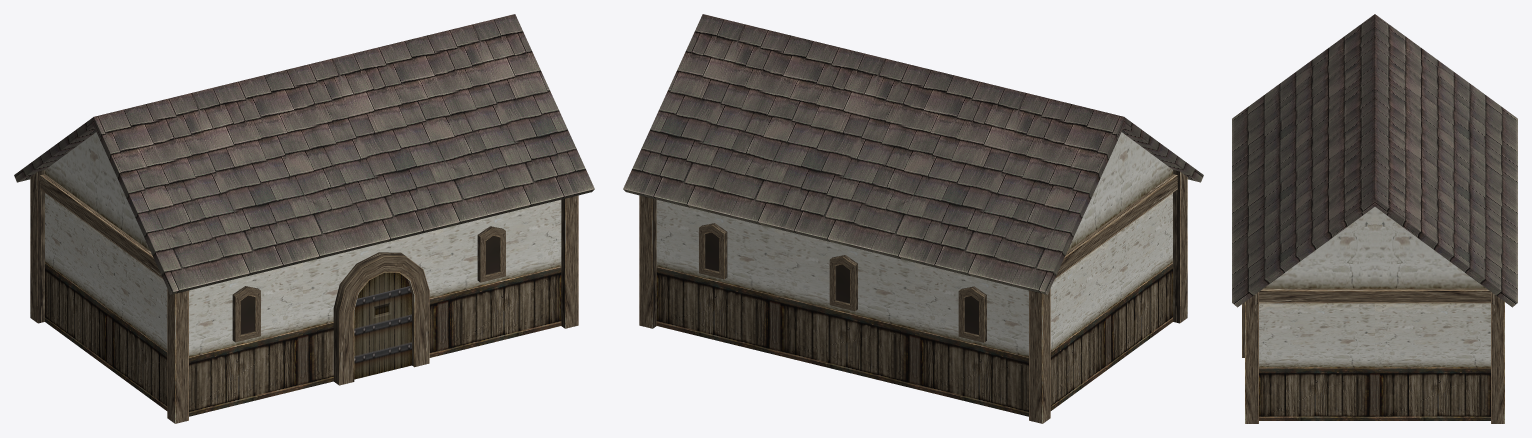
File: CastleHouse05.FBX
The picture shows the model from 3 angles, left to right: view 1: azimuth 30°, elevation 25°; view 2: azimuth 150°, elevation 25°; view 3: azimuth 270°, elevation 25°; orthographic projection. The views are drawn at different scales.
Parts seen in each view (by area): view 1: CastleHouse05; view 2: CastleHouse05; view 3: CastleHouse05.
Part boxes in pixels (<box>): CastleHouse05: <box>14,14,594,423</box>; CastleHouse05: <box>623,14,1203,423</box>; CastleHouse05: <box>1232,14,1517,423</box>.
Size of the model in its own units: 1201 by 698 by 787.
